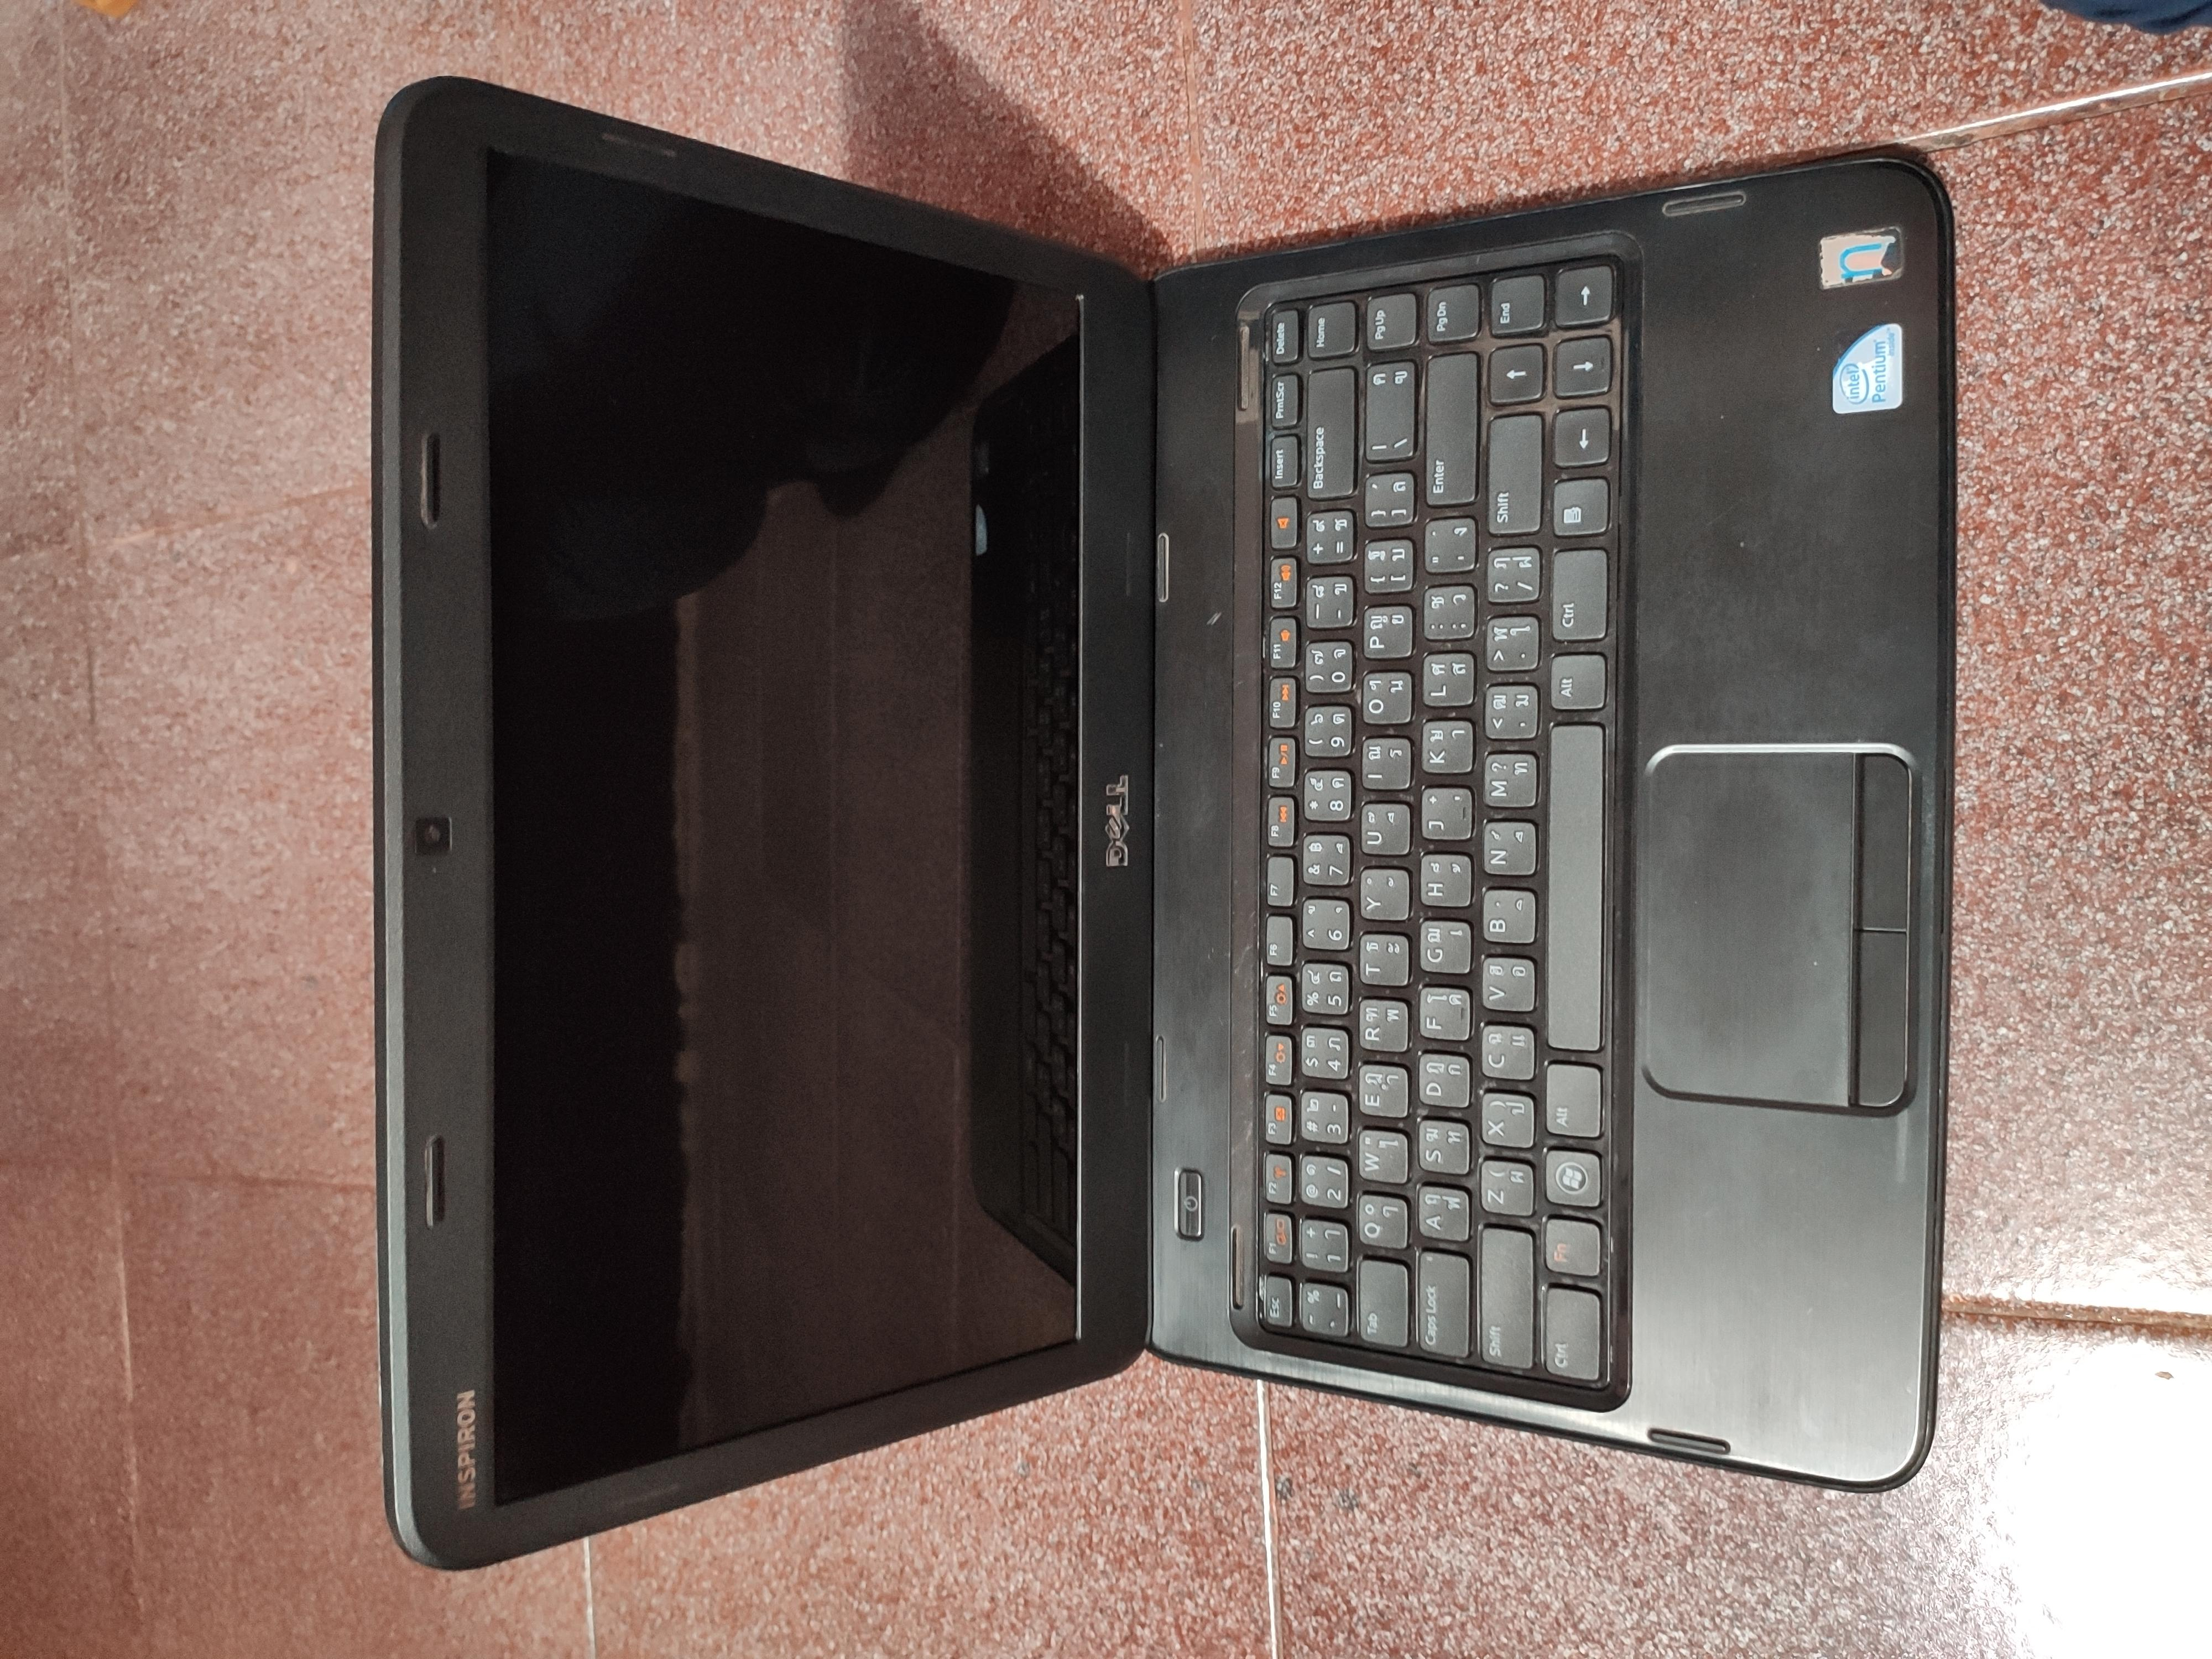laptop: (345, 66, 1980, 1586)
